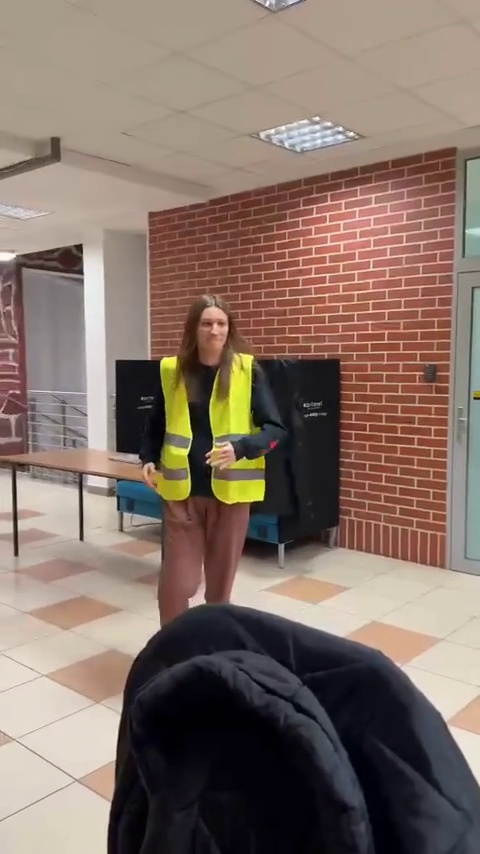vest: (143, 290, 285, 596)
